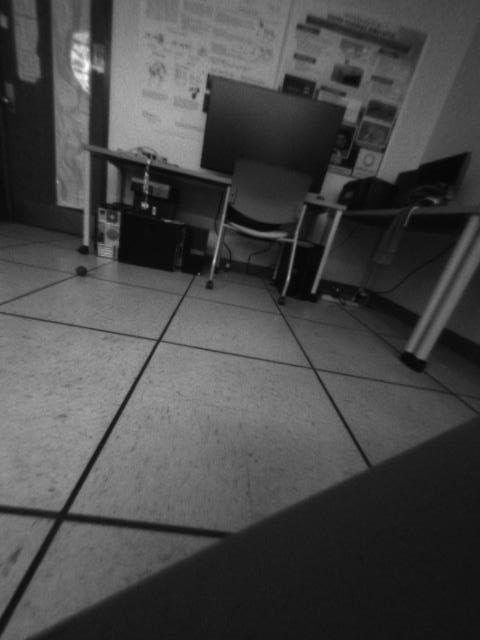dogtoy: (72, 261, 98, 280)
